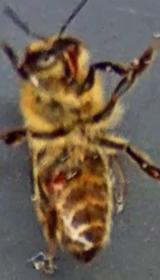varroa_mite: (36, 164, 74, 198)
